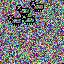sheep: (29, 0, 45, 12), (15, 4, 30, 16), (8, 15, 23, 27), (20, 13, 35, 25)
